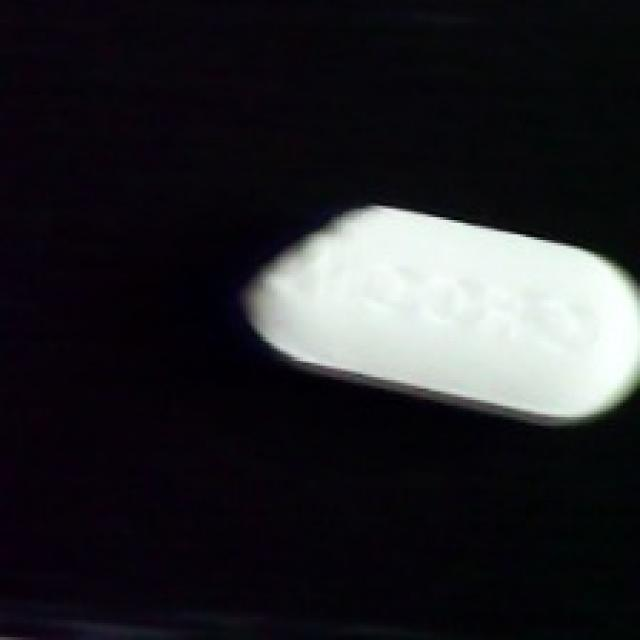defected: (231, 194, 640, 429)
